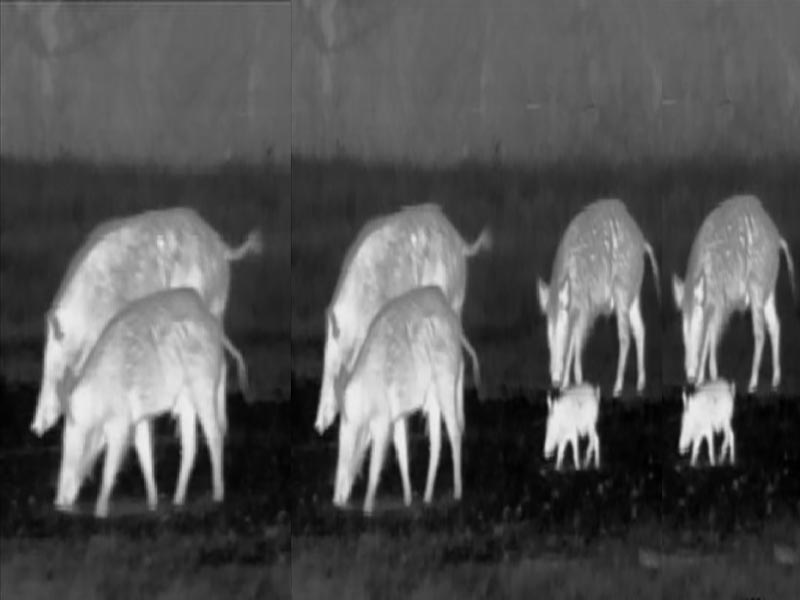cinghiale: (57, 285, 248, 518), (330, 281, 479, 508), (527, 201, 651, 399), (675, 199, 790, 390), (17, 276, 79, 433), (303, 293, 356, 442), (537, 377, 612, 467), (672, 379, 739, 464)
